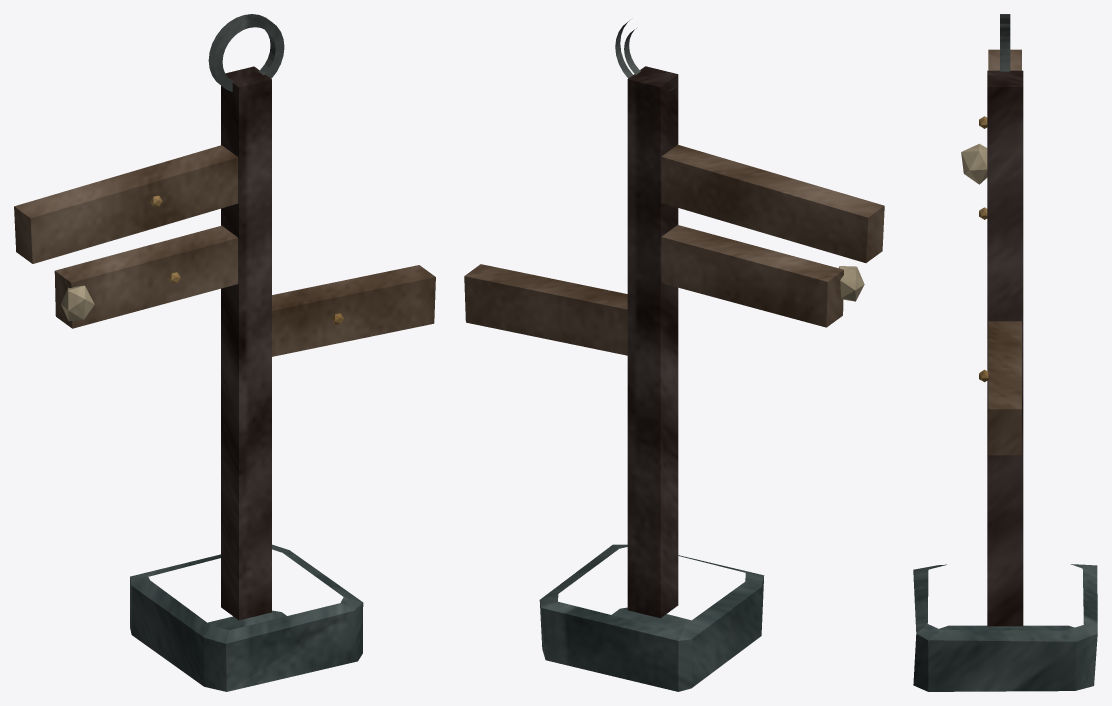
File: 0646_signpost_21.glb
3 renders of one model, left to right at view 1: azimuth 30°, elevation 25°; view 2: azimuth 150°, elevation 25°; view 3: azimuth 270°, elevation 25°, orthographic.
Parts seen in each view (by area): view 1: wood, wood_dark, stone_dark, iron, bone; view 2: wood, wood_dark, stone_dark, bone; view 3: wood_dark, stone_dark, wood, bone, iron.
Part boxes in pixels (x1,y1,x2,y2): wood: [14, 145, 435, 356]; wood_dark: [221, 66, 271, 620]; stone_dark: [130, 544, 363, 691]; iron: [208, 14, 284, 91]; bone: [61, 285, 94, 321]; wood: [464, 145, 884, 355]; wood_dark: [627, 66, 678, 618]; stone_dark: [539, 544, 764, 691]; bone: [839, 266, 864, 301]; wood_dark: [987, 70, 1023, 626]; stone_dark: [913, 564, 1097, 691]; wood: [988, 49, 1021, 455]; bone: [961, 143, 987, 184]; iron: [1000, 14, 1010, 71].
Size of the model in its own units: 1.84 by 2.74 by 0.7148.
Materials: 6 (6 with a texture image).
